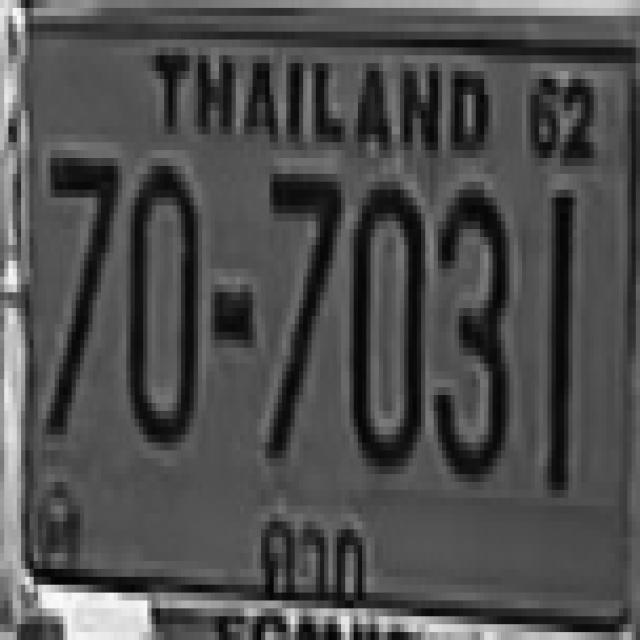0: (350, 174, 421, 466), (126, 158, 194, 442)
1: (545, 186, 571, 486)
3: (432, 182, 508, 474)
7: (265, 166, 337, 458), (46, 150, 114, 427)
Tak: (245, 498, 372, 614)
